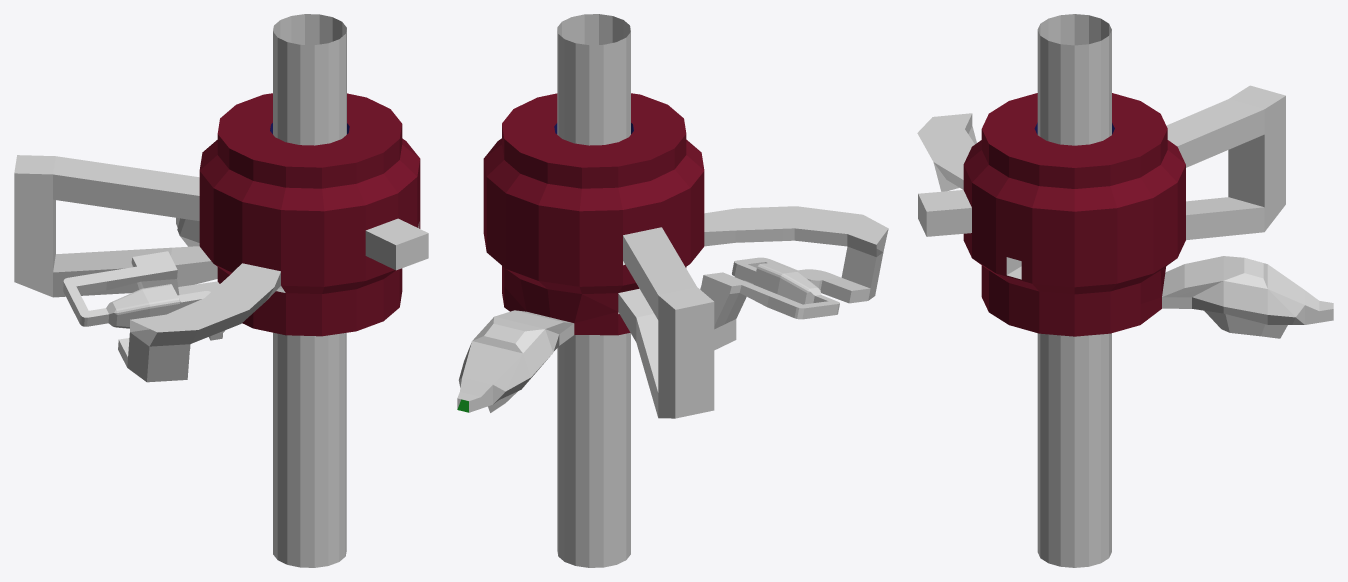
The model's file is floodedfacility_painted.fbx.
The picture shows the model from 3 angles, left to right: view 1: azimuth 30°, elevation 25°; view 2: azimuth 150°, elevation 25°; view 3: azimuth 270°, elevation 25°; orthographic projection.
Parts seen in each view (by area): view 1: facility; view 2: facility; view 3: facility.
Part boxes in pixels (bbox=[...]): facility: bbox=[14, 14, 428, 567]; facility: bbox=[457, 14, 888, 567]; facility: bbox=[917, 14, 1333, 567].
Size of the model in its own units: 20683 by 30997 by 22386.
